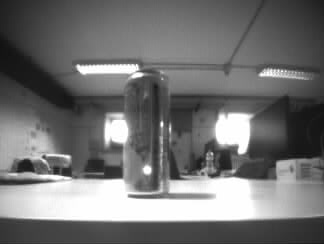Tin can: (120, 69, 173, 199)
